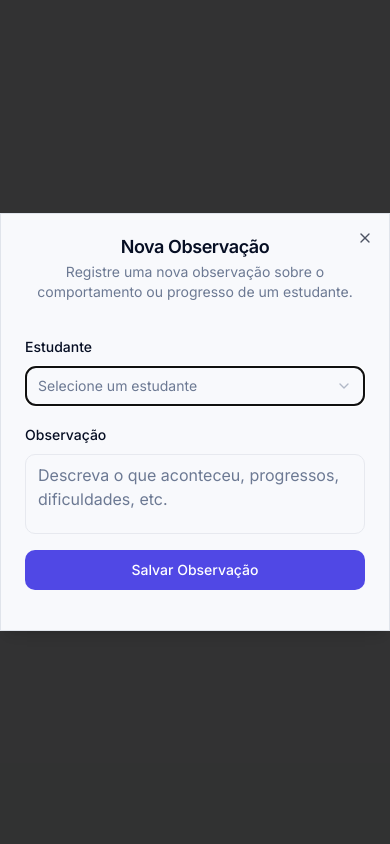
NewNoteDialog Component › deve validar o comprimento mínimo da nota
Type "Curto" into the text box labelled "Observação". click: x=195, y=494
box: [25,454,365,534]
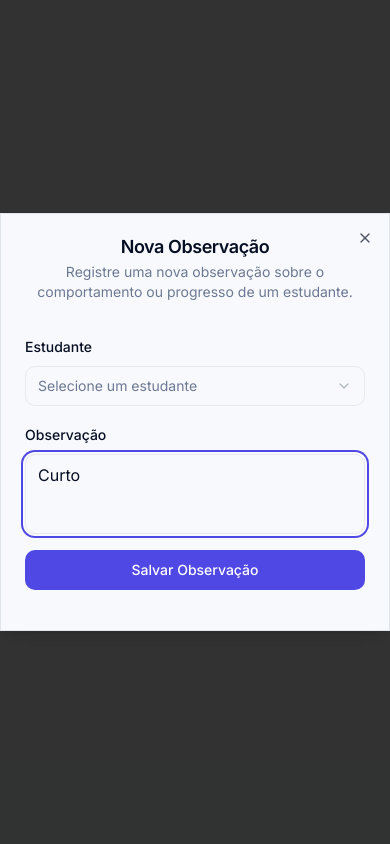
Click the button "Salvar Observação". click: x=195, y=570
box: [25,550,365,590]
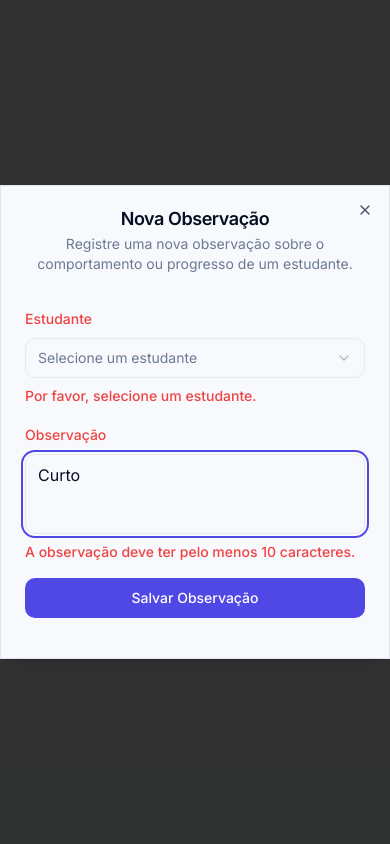
Result: the text "A observação deve ter pelo menos 10 caracteres." is shown at [25,542,365,562]
